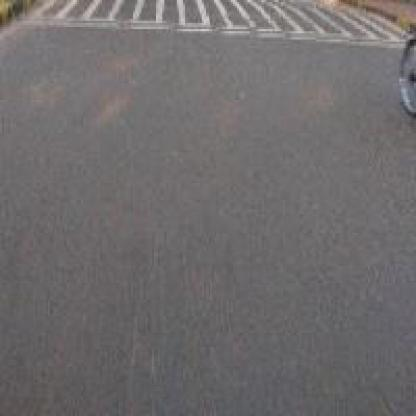Speed Bump: (34, 2, 398, 44)
